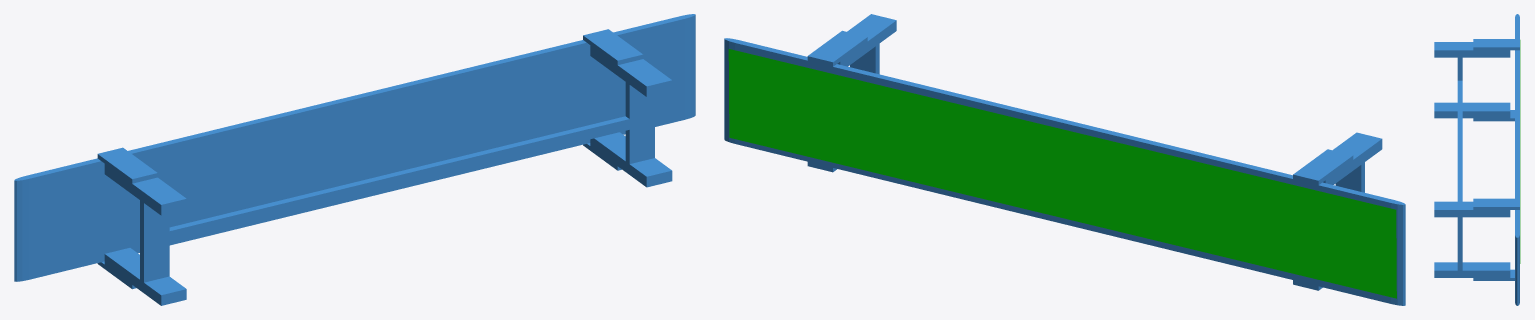
File: conveyor_simple.dae
The picture shows the model from 3 angles, left to right: view 1: azimuth 30°, elevation 25°; view 2: azimuth 150°, elevation 25°; view 3: azimuth 270°, elevation 25°; orthographic projection. The views are drawn at different scales.
Visible parts, largest first — view 1: conveyor_simple; view 2: green, conveyor_simple; view 3: conveyor_simple, green.
Boxes of the visible parts, <box> form: conveyor_simple: <box>14,14,695,305</box>; green: <box>728,49,1396,298</box>; conveyor_simple: <box>724,14,1405,305</box>; conveyor_simple: <box>1434,14,1519,305</box>; green: <box>1520,40,1520,263</box>.
Size of the model in its own units: 3.6 by 0.5866 by 0.5556.
2 materials, 1 textured.
